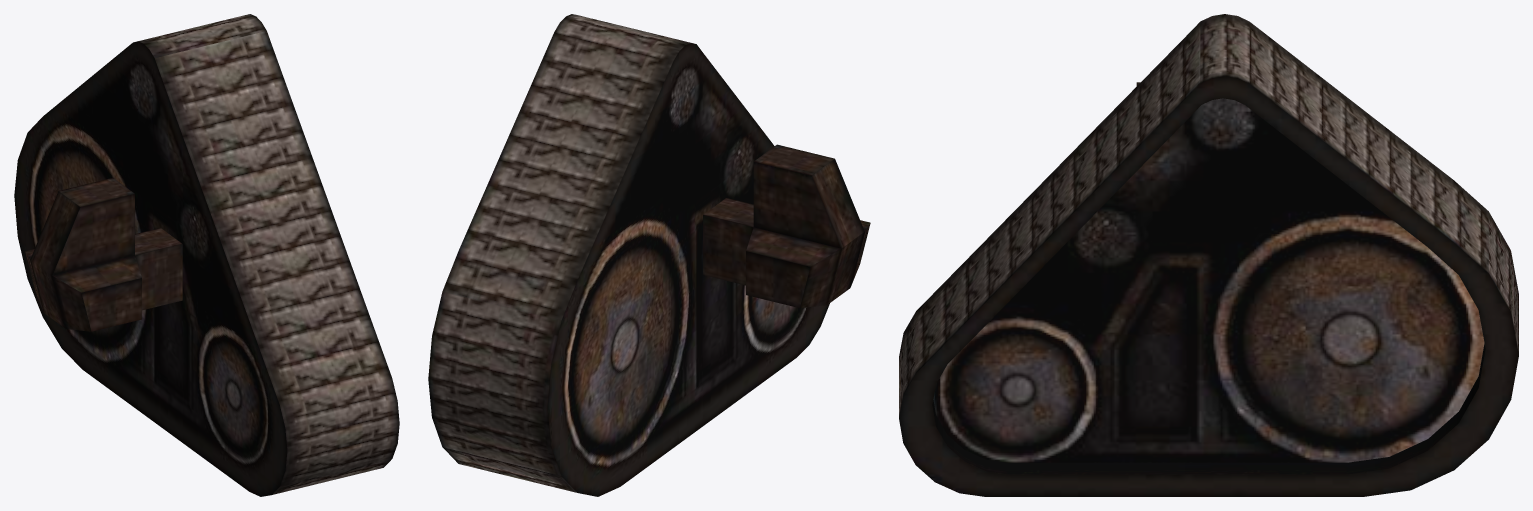
The model's file is leftleg_080414.dae.
3 renders of one model, left to right at view 1: azimuth 30°, elevation 25°; view 2: azimuth 150°, elevation 25°; view 3: azimuth 270°, elevation 25°, orthographic. The views are drawn at different scales.
Visible parts, largest first — view 1: pCube1, leftLeg09; view 2: pCube1, leftLeg09; view 3: pCube1.
Part boxes in pixels (bbox=[...]): pCube1: bbox=[14, 14, 399, 496]; leftLeg09: bbox=[25, 177, 182, 331]; pCube1: bbox=[428, 14, 829, 496]; leftLeg09: bbox=[703, 144, 870, 308]; pCube1: bbox=[899, 14, 1518, 496].
Size of the model in its own units: 1.89 by 2.76 by 3.68.
1 material, 1 textured.
